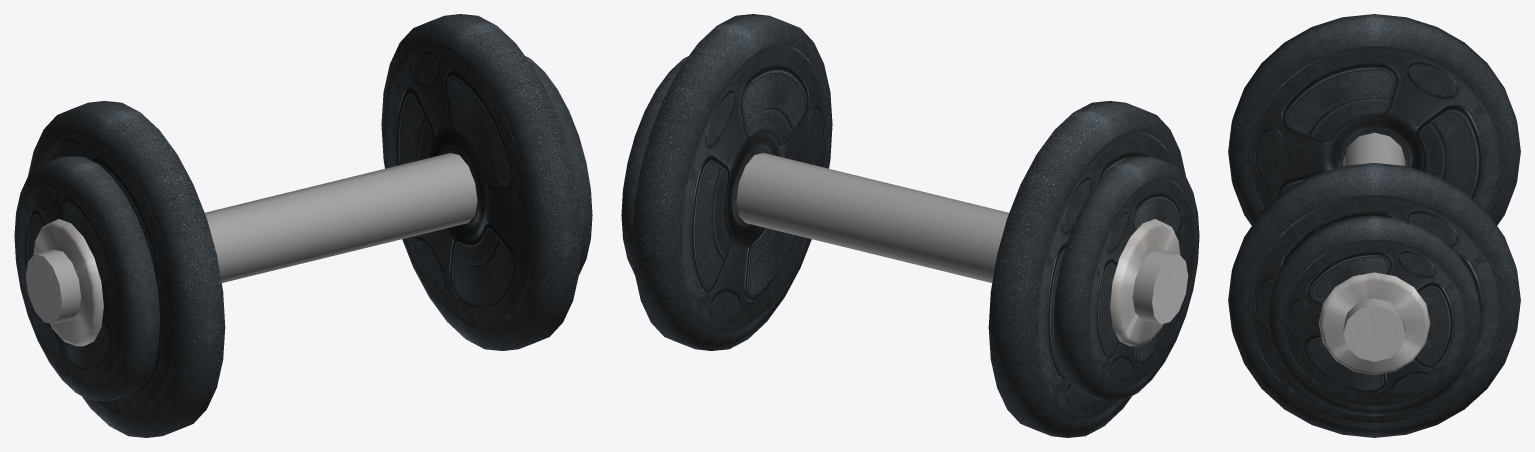
The model's file is Dumbbell03.FBX.
The picture shows the model from 3 angles, left to right: view 1: azimuth 30°, elevation 25°; view 2: azimuth 150°, elevation 25°; view 3: azimuth 270°, elevation 25°; orthographic projection. The views are drawn at different scales.
Parts seen in each view (by area): view 1: Barbell03; view 2: Barbell03; view 3: Barbell03.
Boxes of the visible parts, box(x1,y1,x2,y2) form: Barbell03: box(14, 14, 592, 437); Barbell03: box(621, 14, 1199, 437); Barbell03: box(1228, 14, 1520, 437).
Size of the model in its own units: 511 by 292 by 292.
